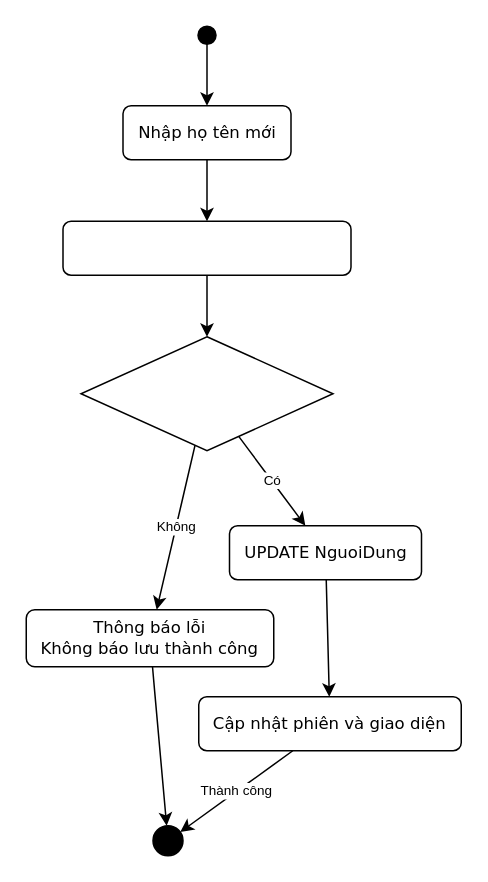
This 488x882 diagram has some shape labels left out. The shapes that lost their labels are listed below. From the top down, each one's centre as x and y in pixels, then its label:
At (x=206, y=247): "Xác thực token và kiểm tra tên".
At (x=206, y=393): "Hợp lệ và được phép?".
